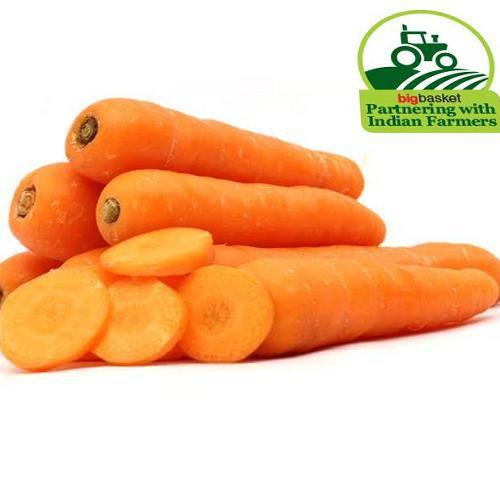carrot: (9, 165, 500, 408), (55, 97, 396, 251)
